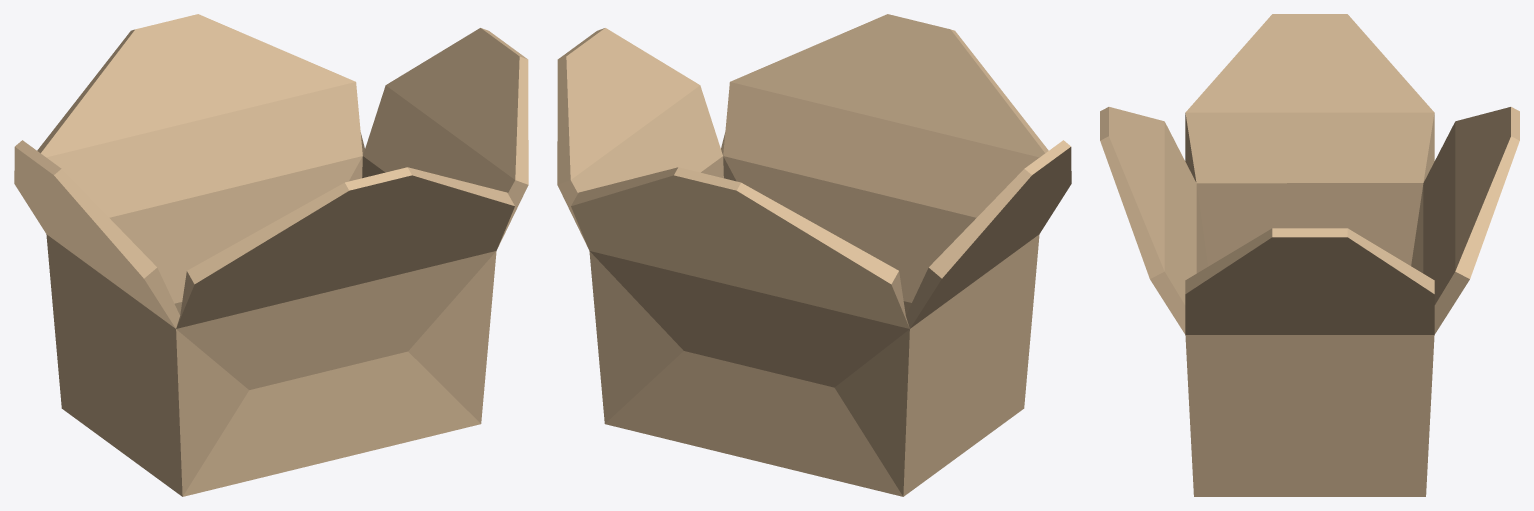
Rendered from food-container-take-empty.glb.
3 renders of one model, left to right at view 1: azimuth 30°, elevation 25°; view 2: azimuth 150°, elevation 25°; view 3: azimuth 270°, elevation 25°, orthographic. The views are drawn at different scales.
Visible parts, largest first — view 1: container-take-empty; view 2: container-take-empty; view 3: container-take-empty.
Part boxes in pixels (bbox=[...]): container-take-empty: bbox=[14, 14, 528, 496]; container-take-empty: bbox=[557, 14, 1071, 496]; container-take-empty: bbox=[1100, 14, 1519, 496].
Size of the model in its own units: 0.2775 by 0.178 by 0.2214.
